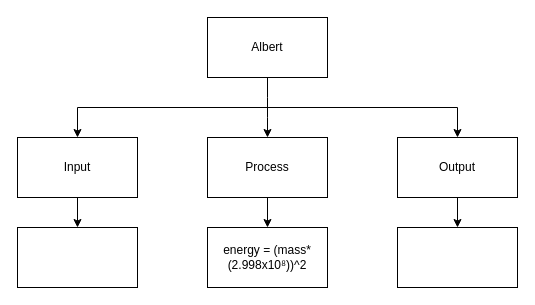
This 535x305 diagram has some shape labels left out. The shapes that lost their labels are listed below. From the top down, each one's centre as x and y in pixels, then its label:
point (77, 257): Get Mass
point (457, 257): Output energy
